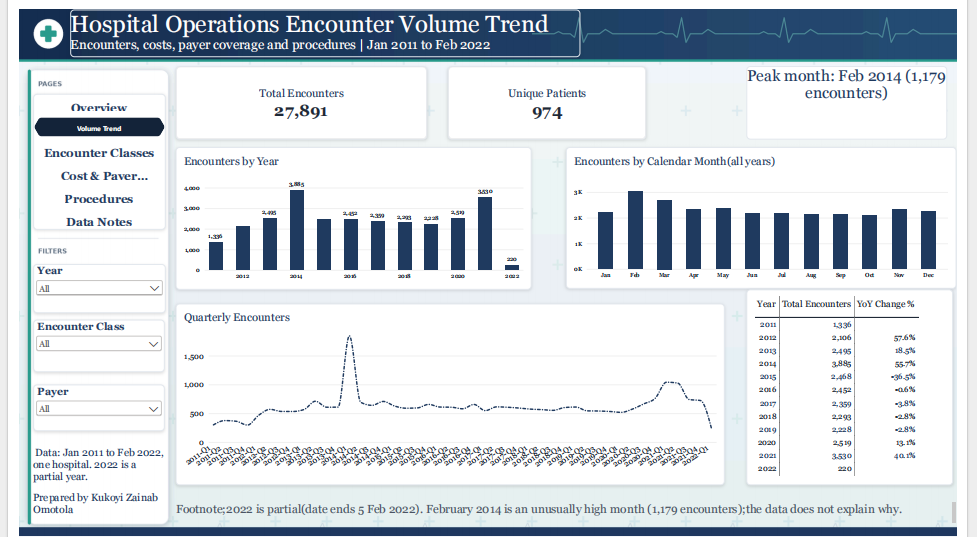

The dashboard page shown, as its layout file describes it:
{"tool":"powerbi","page":{"name":"Volume Trend","canvas":[1920,1080],"ordinal":1},"visuals":[{"type":"textbox","box":[104.4,0,1044.3,97.3],"z":0},{"type":"slicer","fields":{"Values":["DateTable.Year"]},"box":[28.5,522.1,270.6,99.7],"z":1000},{"type":"slicer","fields":{"Values":["encounters.ENCOUNTERCLASS"]},"box":[28.5,636,268.2,106.8],"z":2000},{"type":"slicer","fields":{"Values":["payers.NAME"]},"box":[28.5,768.9,268.2,94.9],"z":3000},{"type":"cardVisual","fields":{"Data":["_Measures.Total Encounters"]},"box":[320.4,116.3,515,149.5],"z":4000},{"type":"cardVisual","fields":{"Data":["_Measures.Unique Patients"]},"box":[878.1,116.3,405.8,149.5],"z":5000},{"type":"lineChart","title":"Quarterly Encounters ","fields":{"Category":["DateTable.Year-Quarter"],"Y":["_Measures.Total Encounters"]},"box":[320.4,602.8,1124.9,372.6],"z":6000},{"type":"columnChart","title":" Encounters by Year","fields":{"Category":["DateTable.Year"],"Y":["_Measures.Total Encounters"]},"box":[320.4,282.4,728.6,291.9],"z":7000},{"type":"columnChart","title":"Encounters by Calendar Month(all years)","fields":{"Category":["DateTable.Month"],"Y":["_Measures.Total Encounters"]},"box":[1120.2,282.4,799.8,289.5],"z":8000},{"type":"tableEx","title":"Claim Cost by Payers","fields":{"Values":["DateTable.Year","_Measures.Total Encounters","_Measures.YoY Change %"]},"box":[1490.4,574.3,422.4,401.1],"z":9000},{"type":"textbox","box":[320.8,1010,1599.2,43.2],"z":10000},{"type":"textbox","box":[28.5,894.7,270.6,159],"z":11000},{"type":"pageNavigator","box":[28.5,173.3,270.6,277.7],"z":12000},{"type":"textbox","box":[1490.4,116.3,410.6,149.5],"z":13000}]}

Visuals, with their boxes in screenshot pixels (x1, y1, x2, y2), scaled from the page's 1920x1080 canvas onto the 977x537 screenshot:
textbox: (x1=53, y1=0, x2=585, y2=48)
slicer - DateTable.Year: (x1=15, y1=260, x2=152, y2=309)
slicer - encounters.ENCOUNTERCLASS: (x1=15, y1=316, x2=151, y2=369)
slicer - payers.NAME: (x1=15, y1=382, x2=151, y2=430)
cardVisual - _Measures.Total Encounters: (x1=163, y1=58, x2=425, y2=132)
cardVisual - _Measures.Unique Patients: (x1=447, y1=58, x2=653, y2=132)
"Quarterly Encounters " lineChart: (x1=163, y1=300, x2=735, y2=485)
" Encounters by Year" columnChart: (x1=163, y1=140, x2=534, y2=286)
"Encounters by Calendar Month(all years)" columnChart: (x1=570, y1=140, x2=976, y2=284)
"Claim Cost by Payers" tableEx: (x1=758, y1=286, x2=973, y2=485)
textbox: (x1=163, y1=502, x2=976, y2=524)
textbox: (x1=15, y1=445, x2=152, y2=524)
pageNavigator: (x1=15, y1=86, x2=152, y2=224)
textbox: (x1=758, y1=58, x2=967, y2=132)
